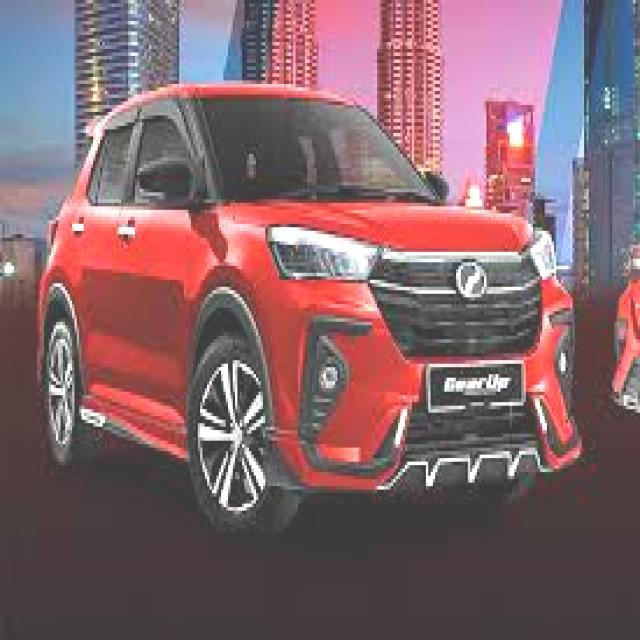PeroduaAtiva: (34, 80, 585, 535)
